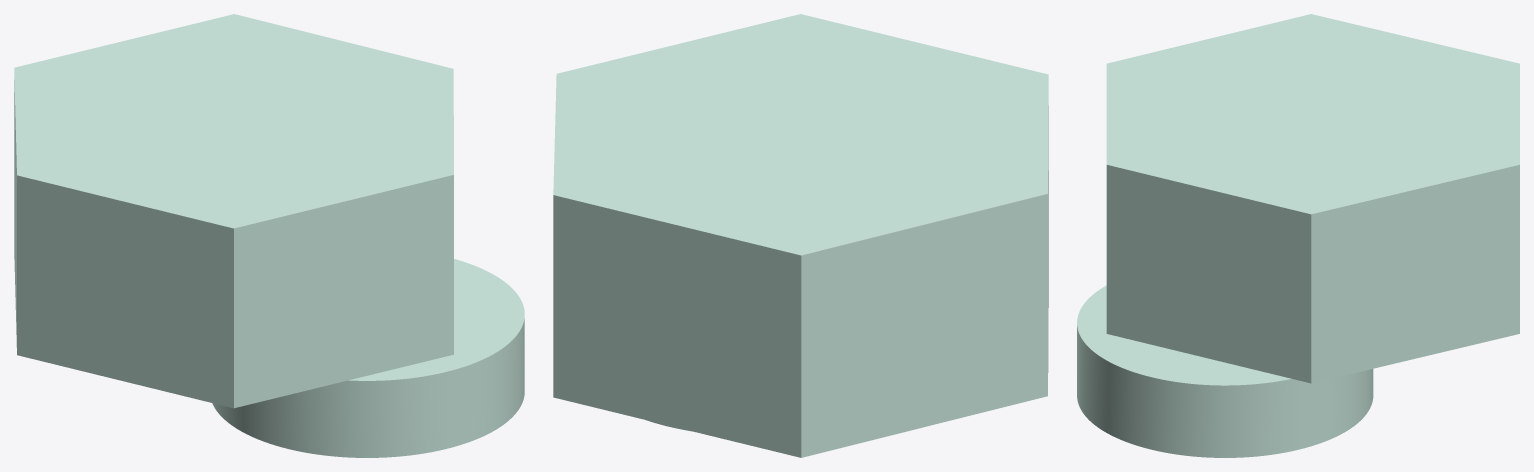
3 views of the same model, side by side, from view 1: azimuth 30°, elevation 25°; view 2: azimuth 150°, elevation 25°; view 3: azimuth 270°, elevation 25° (orthographic). The views are drawn at different scales.
Parts seen in each view (by area): view 1: Renderer Node; view 2: Renderer Node; view 3: Renderer Node.
Boxes of the visible parts, x1,y1,x2,y2 form: Renderer Node: [14, 14, 524, 457]; Renderer Node: [553, 14, 1048, 457]; Renderer Node: [1077, 14, 1519, 457].
Size of the model in its own units: 0.2807 by 0.1563 by 0.2596.
